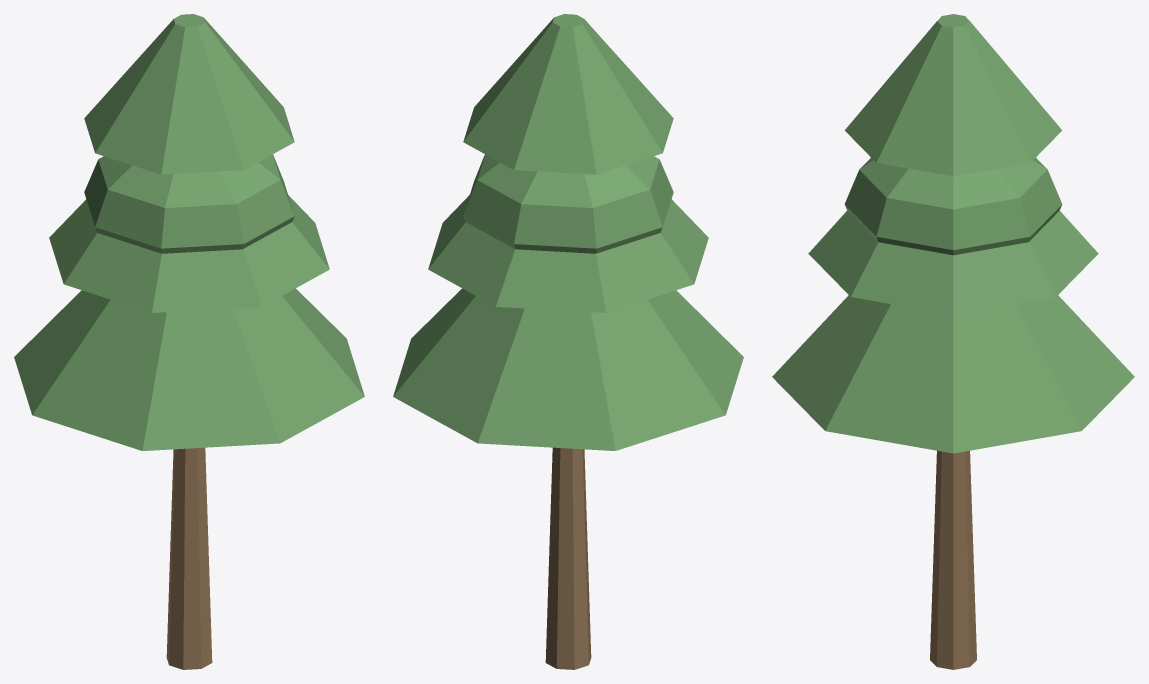
The model's file is deciduous_3.glb.
The picture shows the model from 3 angles, left to right: view 1: azimuth 30°, elevation 25°; view 2: azimuth 150°, elevation 25°; view 3: azimuth 270°, elevation 25°; orthographic projection.
Parts seen in each view (by area): view 1: deciduous_3_foliage_0, deciduous_3_foliage_2, deciduous_3_foliage_1, deciduous_3_top, deciduous_3_trunk; view 2: deciduous_3_foliage_0, deciduous_3_foliage_2, deciduous_3_foliage_1, deciduous_3_top, deciduous_3_trunk; view 3: deciduous_3_foliage_0, deciduous_3_foliage_2, deciduous_3_foliage_1, deciduous_3_top, deciduous_3_trunk.
Part boxes in pixels (x1,y1,x2,y2): deciduous_3_foliage_0: (14,288,364,450); deciduous_3_foliage_2: (84,14,294,174); deciduous_3_foliage_1: (49,195,329,312); deciduous_3_top: (84,154,294,253); deciduous_3_trunk: (166,447,212,669); deciduous_3_foliage_0: (393,288,743,450); deciduous_3_foliage_2: (463,14,673,174); deciduous_3_foliage_1: (428,195,708,312); deciduous_3_top: (463,154,673,253); deciduous_3_trunk: (545,447,591,669); deciduous_3_foliage_0: (772,295,1134,453); deciduous_3_foliage_2: (845,14,1061,176); deciduous_3_foliage_1: (808,210,1098,314); deciduous_3_top: (844,158,1062,255); deciduous_3_trunk: (930,450,976,669).
Size of the model in its own units: 2.4 by 4.67 by 2.4.
